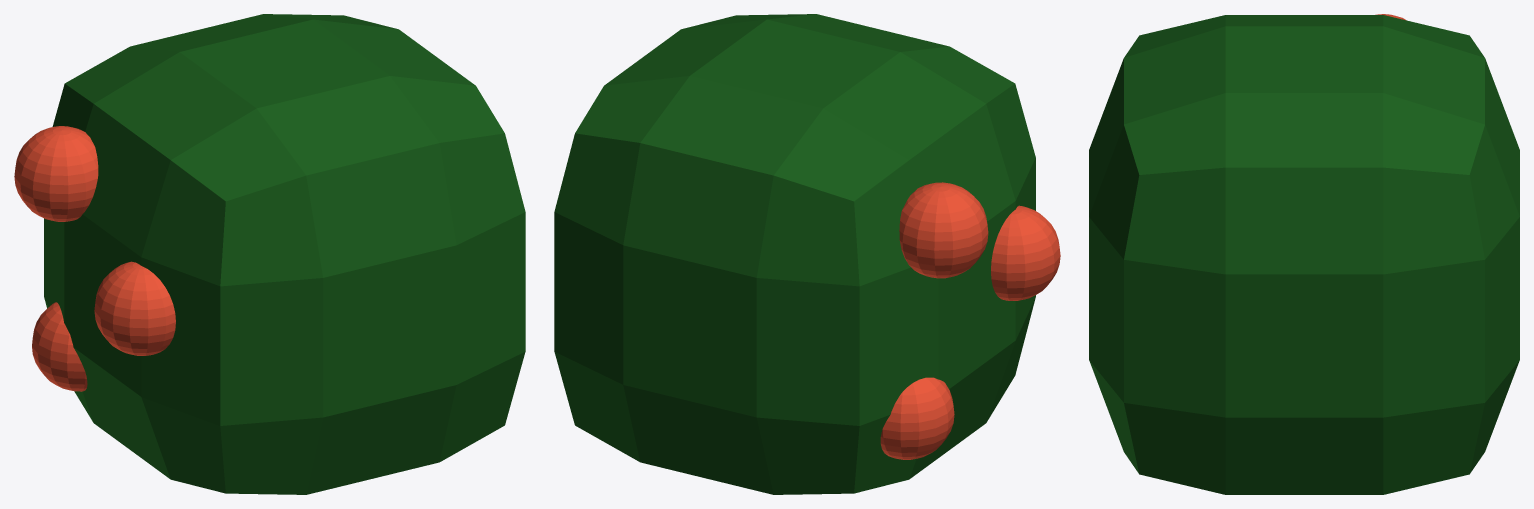
File: bush.fbx
3 renders of one model, left to right at view 1: azimuth 30°, elevation 25°; view 2: azimuth 150°, elevation 25°; view 3: azimuth 270°, elevation 25°, orthographic. The views are drawn at different scales.
Parts seen in each view (by area): view 1: Sphere; view 2: Sphere; view 3: Sphere.
Boxes of the visible parts, x1,y1,x2,y2 form: Sphere: (14, 14, 525, 494); Sphere: (554, 14, 1060, 494); Sphere: (1089, 14, 1519, 494).
Size of the model in its own units: 500 by 447 by 447.
